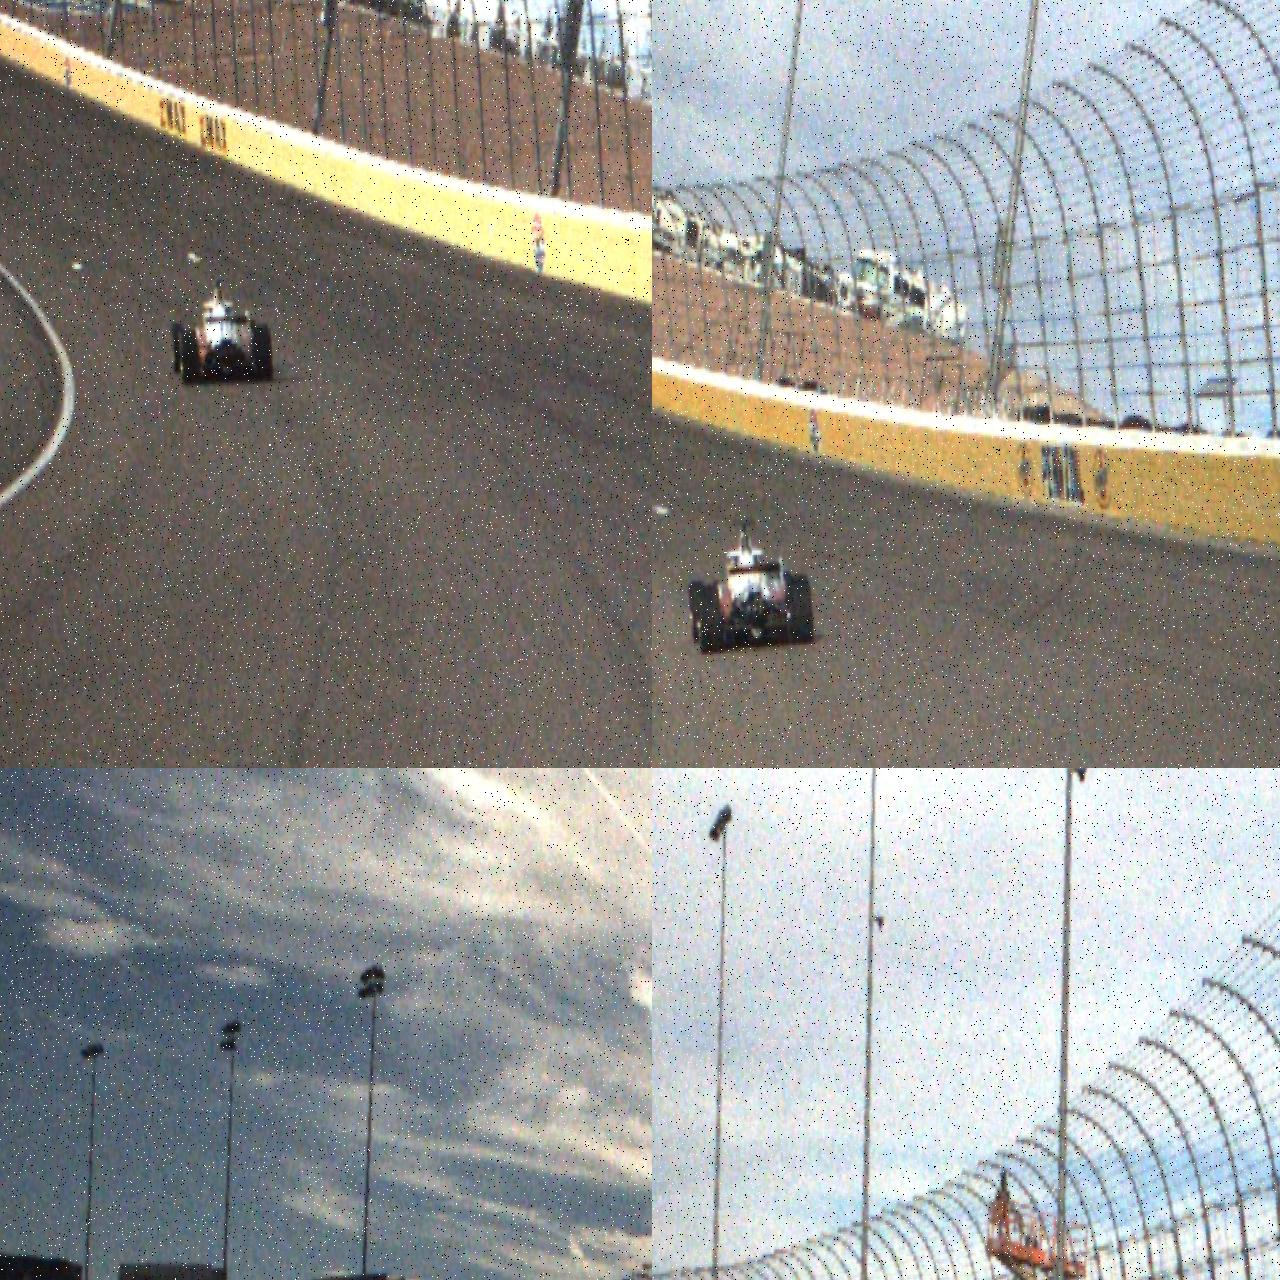AV: (685, 515, 813, 655), (166, 271, 274, 388)
Wheel: (788, 573, 813, 646), (696, 585, 723, 654), (252, 322, 274, 381), (688, 579, 708, 644), (179, 328, 200, 384), (170, 320, 186, 374)
